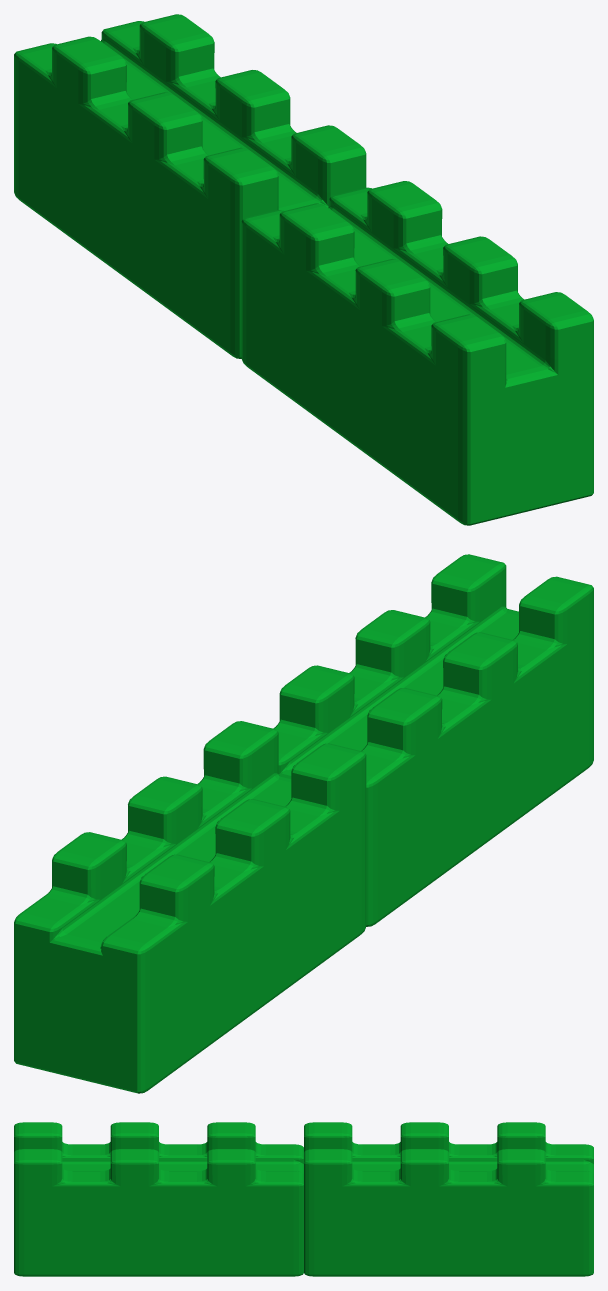
The model's file is block 6.fbx.
3 renders of one model, top to bottom at view 1: azimuth 30°, elevation 25°; view 2: azimuth 150°, elevation 25°; view 3: azimuth 270°, elevation 25°, orthographic. The views are drawn at different scales.
Parts seen in each view (by area): view 1: Cube; view 2: Cube; view 3: Cube.
Part boxes in pixels (x1,y1,x2,y2): Cube: [14, 14, 593, 525]; Cube: [14, 554, 593, 1093]; Cube: [14, 1122, 593, 1276].
Bounding box in the file's own units: 400 × 531 × 2400.
